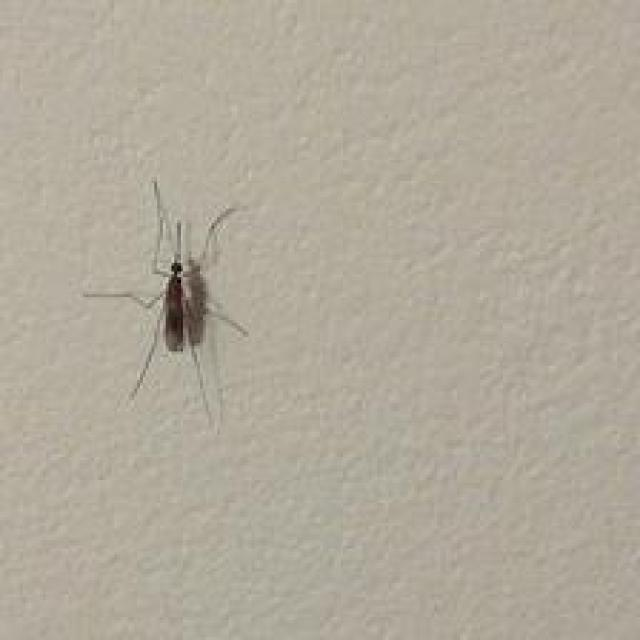Culex: (81, 176, 250, 433)
